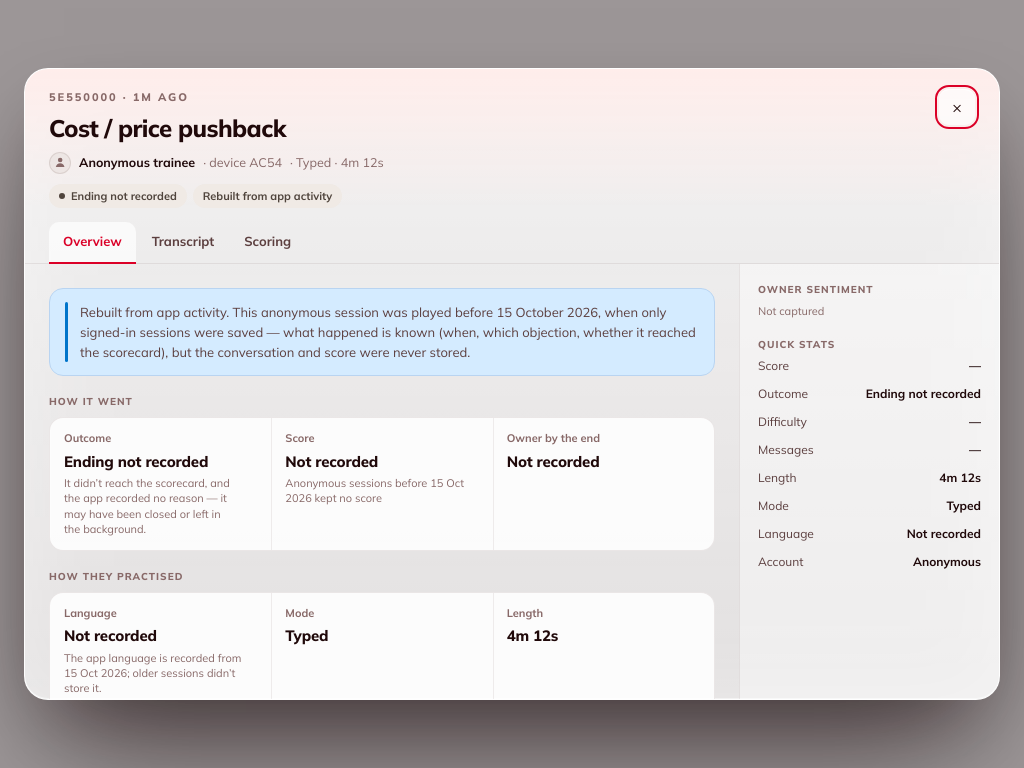
SessionModal › explains a rebuilt session and never shows an empty transcript or a score as data
expect the text "Rebuilt from app activity. This anonymous session was played before 15 October 2026" is shown: met, box left=80, top=304, right=696, bottom=360
expect the text "Ending not recorded" is shown: met, box left=49, top=184, right=187, bottom=208
Click the tab "Transcript": (183, 243) left=138, top=222, right=228, bottom=264
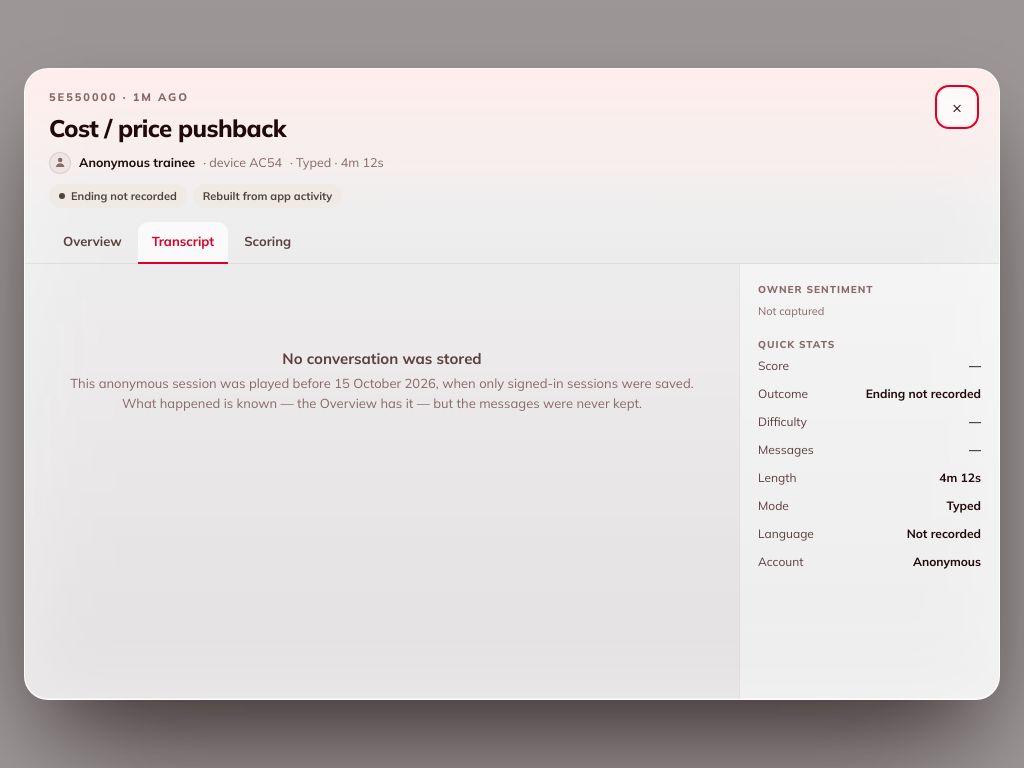
expect the text "No conversation was stored" is shown: met, box left=282, top=349, right=482, bottom=368
Click the tab "Scoring": (268, 243) left=230, top=222, right=305, bottom=264
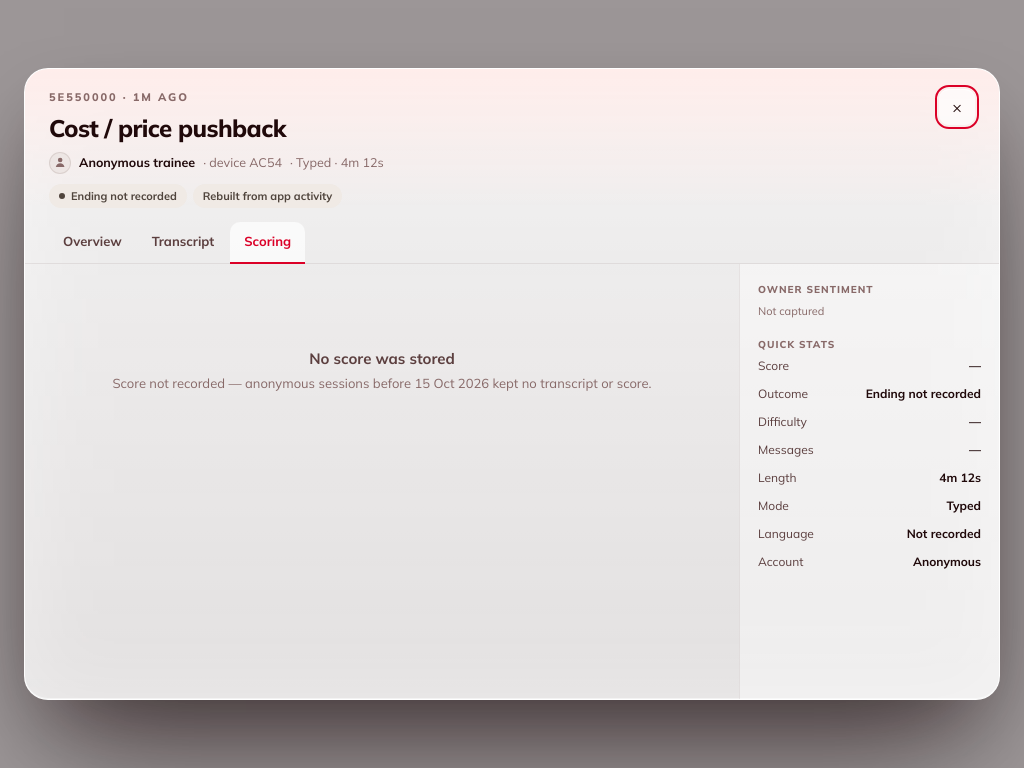
expect the text "No score was stored" is shown: met, box left=309, top=349, right=455, bottom=368
